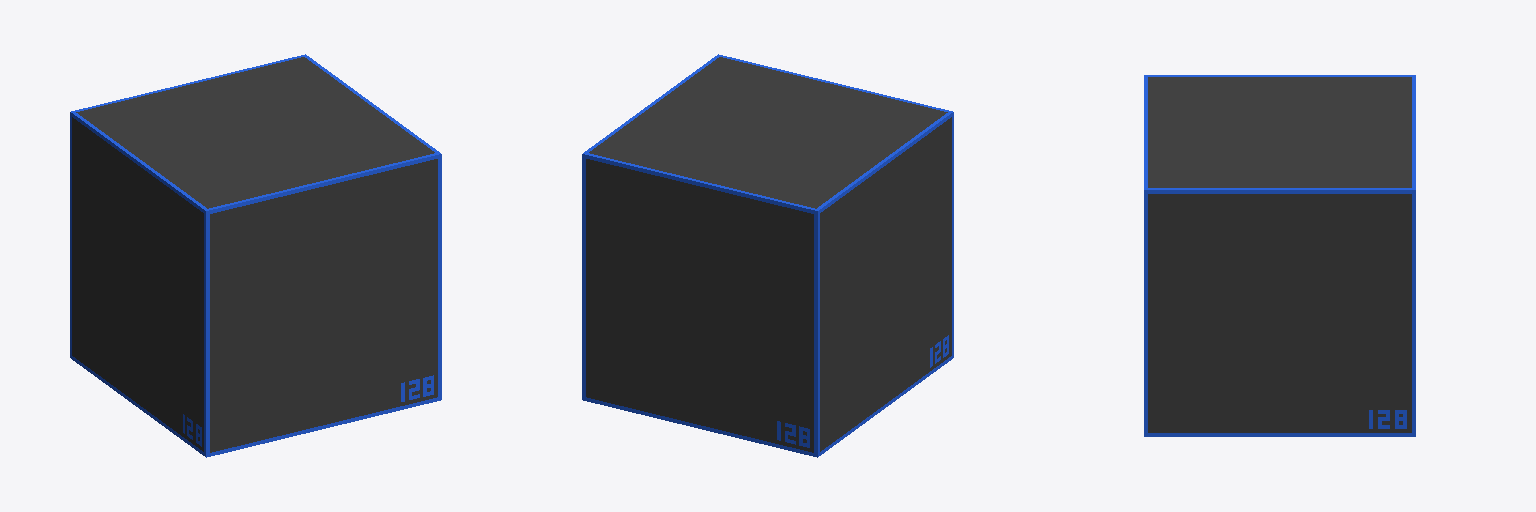
3 renders of one model, left to right at view 1: azimuth 30°, elevation 25°; view 2: azimuth 150°, elevation 25°; view 3: azimuth 270°, elevation 25°, orthographic.
Visible parts, largest first — view 1: object 1; view 2: object 1; view 3: object 1.
Boxes of the visible parts, <box> form: object 1: <box>70,54,441,457</box>; object 1: <box>582,54,953,457</box>; object 1: <box>1144,75,1415,436</box>.
Size of the model in its own units: 12.8 by 12.8 by 12.8.
Materials: 1 (1 with a texture image).